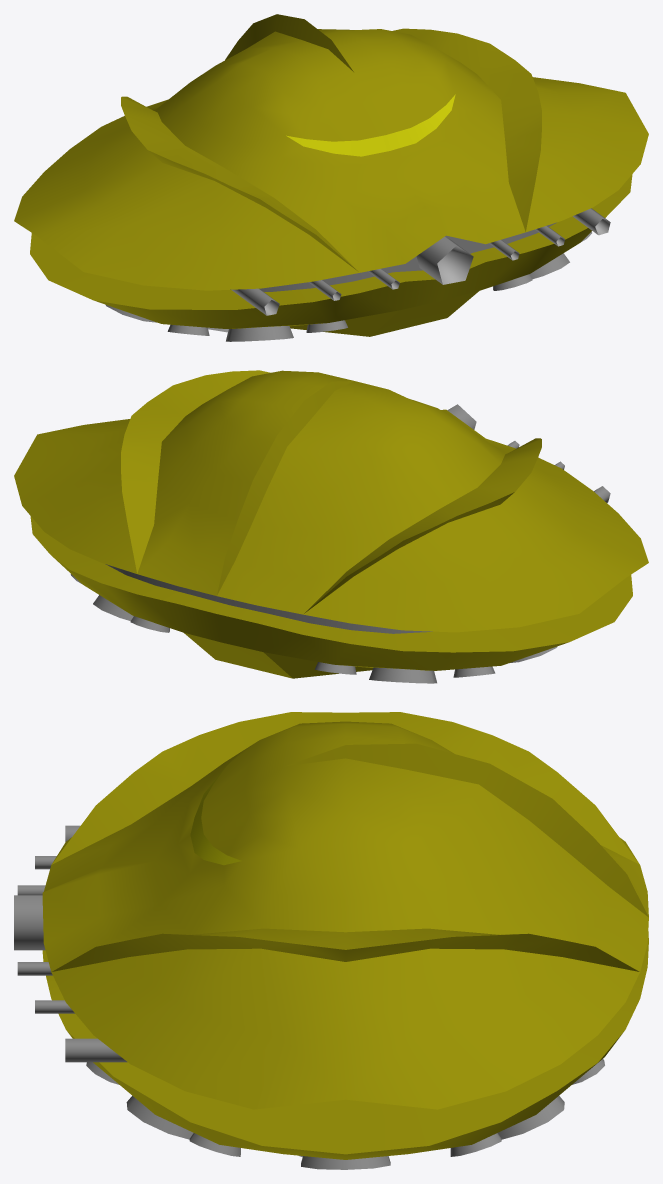
Rendered from SM_Boss_Lv1.fbx.
3 views of the same model, one above another, from view 1: azimuth 30°, elevation 25°; view 2: azimuth 150°, elevation 25°; view 3: azimuth 270°, elevation 25° (orthographic). The views are drawn at different scales.
Parts seen in each view (by area): view 1: SM_Boss_Lv01; view 2: SM_Boss_Lv01; view 3: SM_Boss_Lv01.
Part boxes in pixels (left/top/right/bottom): SM_Boss_Lv01: left=14, top=14, right=648, bottom=341; SM_Boss_Lv01: left=14, top=370, right=648, bottom=683; SM_Boss_Lv01: left=14, top=712, right=648, bottom=1169.
Size of the model in its own units: 0.4825 by 0.1984 by 0.3409.
